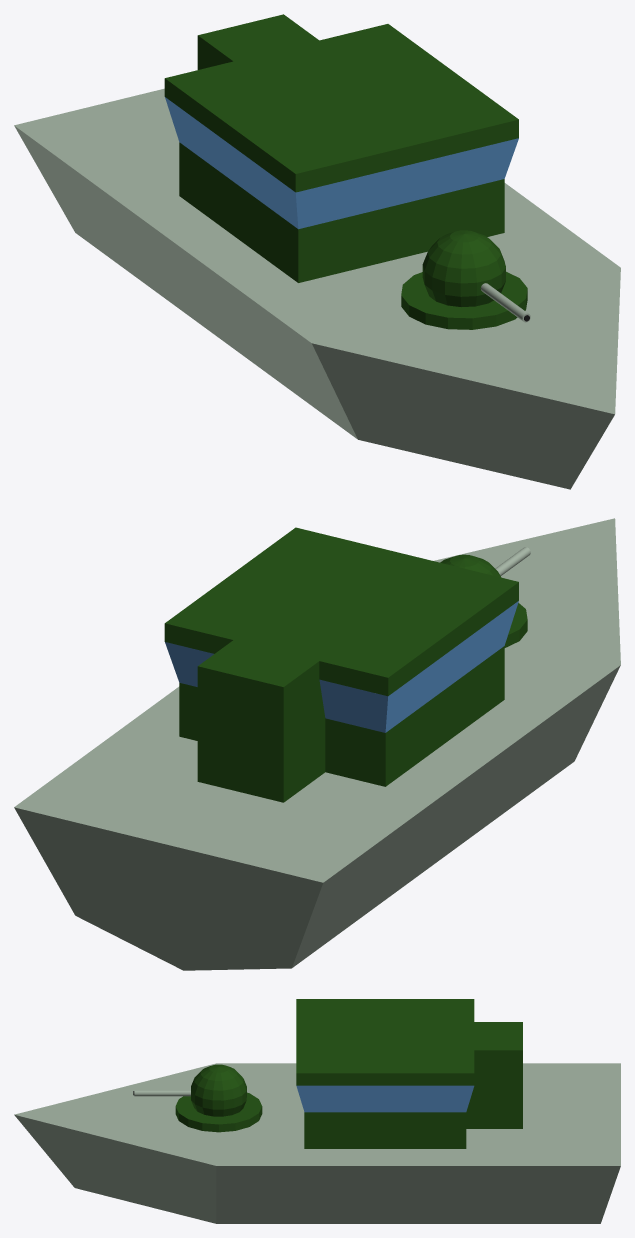
The model's file is combat_ship_1.DQBuXAoy.glb.
3 views of the same model, one above another, from view 1: azimuth 30°, elevation 25°; view 2: azimuth 150°, elevation 25°; view 3: azimuth 270°, elevation 25° (orthographic). The views are drawn at different scales.
Visible parts, largest first — view 1: Cube, Würfel, weapon_head_base, connector; view 2: Cube, Würfel, weapon_head_base; view 3: Cube, Würfel, weapon_head_base, connector, weapon_barrel_base.
Boxes of the visible parts, x1,y1,x2,y2 form: Cube: (14,88,620,489); Würfel: (164,14,518,282); weapon_head_base: (422,230,505,306); connector: (401,271,527,329); Cube: (14,518,620,970); Würfel: (164,527,518,802); weapon_head_base: (440,554,501,577); Cube: (14,1063,620,1223); Würfel: (296,999,522,1148); weapon_head_base: (191,1064,246,1116); connector: (175,1092,262,1132); weapon_barrel_base: (134,1090,190,1096).
Bounding box in the file's own units: 0.525 × 0.4089 × 1.31.
